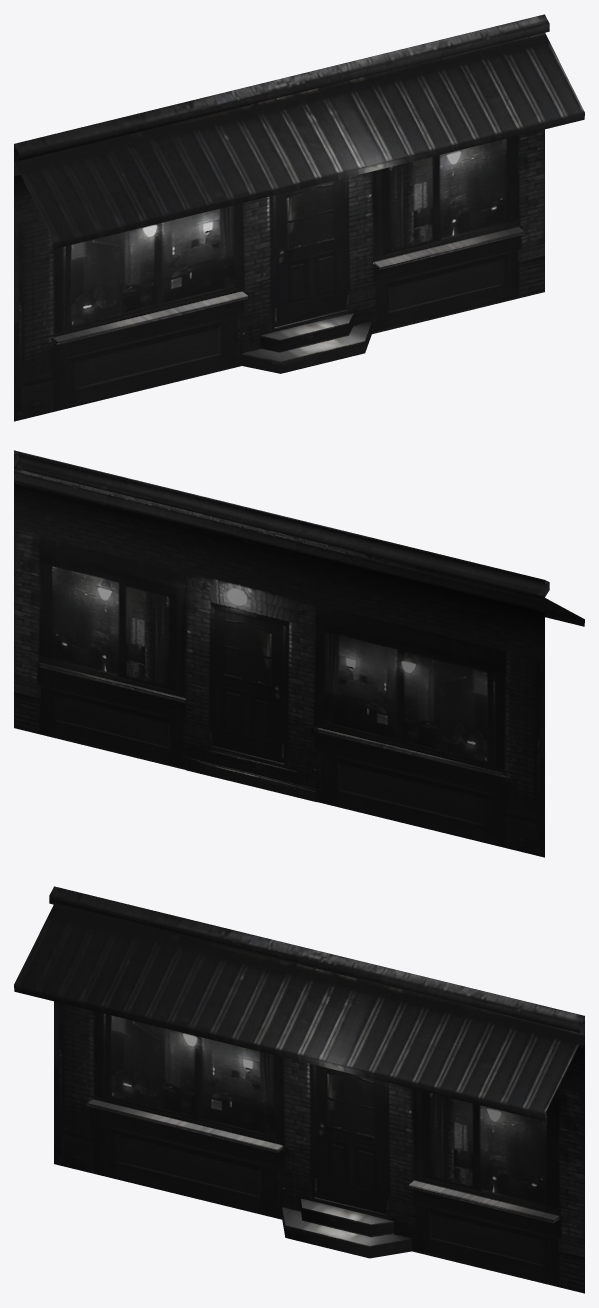
File: shop.obj
3 views of the same model, one above another, from view 1: azimuth 30°, elevation 25°; view 2: azimuth 150°, elevation 25°; view 3: azimuth 330°, elevation 25° (orthographic).
Parts seen in each view (by area): view 1: group; view 2: group; view 3: group.
Part boxes in pixels (<box>): group: <box>14,14,584,421</box>; group: <box>14,450,584,857</box>; group: <box>14,886,584,1293</box>.
Size of the model in its own units: 10 by 5 by 1.32.
1 material, 1 textured.
